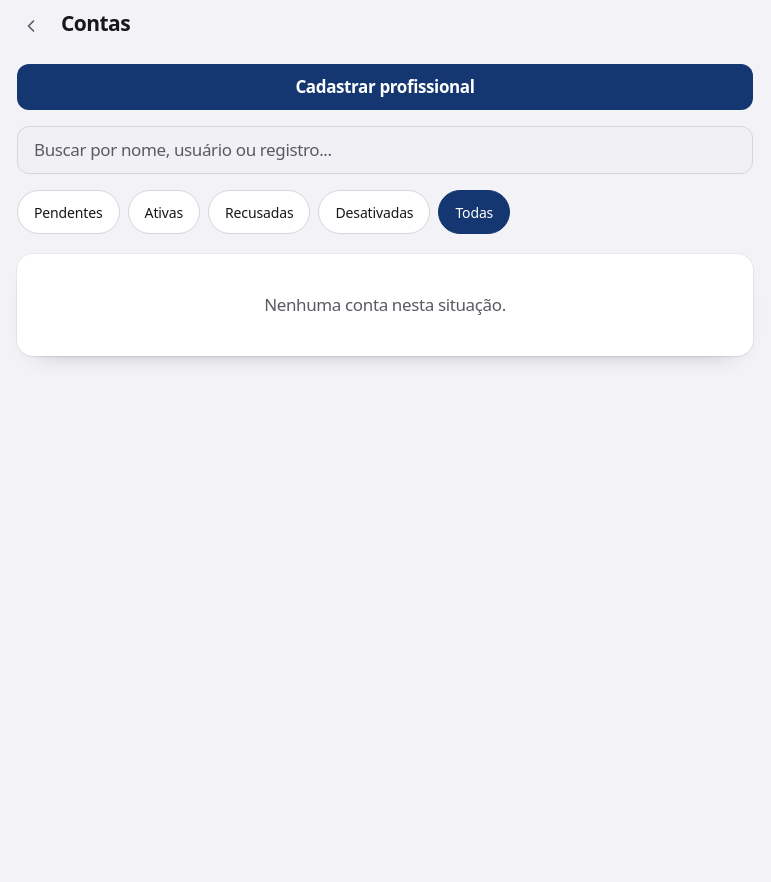
it: Gestão de contas › mantém a senha provisória na tela depois de cadastrar
The image size is (771, 882).
Step 1. Click the button "Cadastrar profissional" → point(385, 87), box [17,64,753,110]
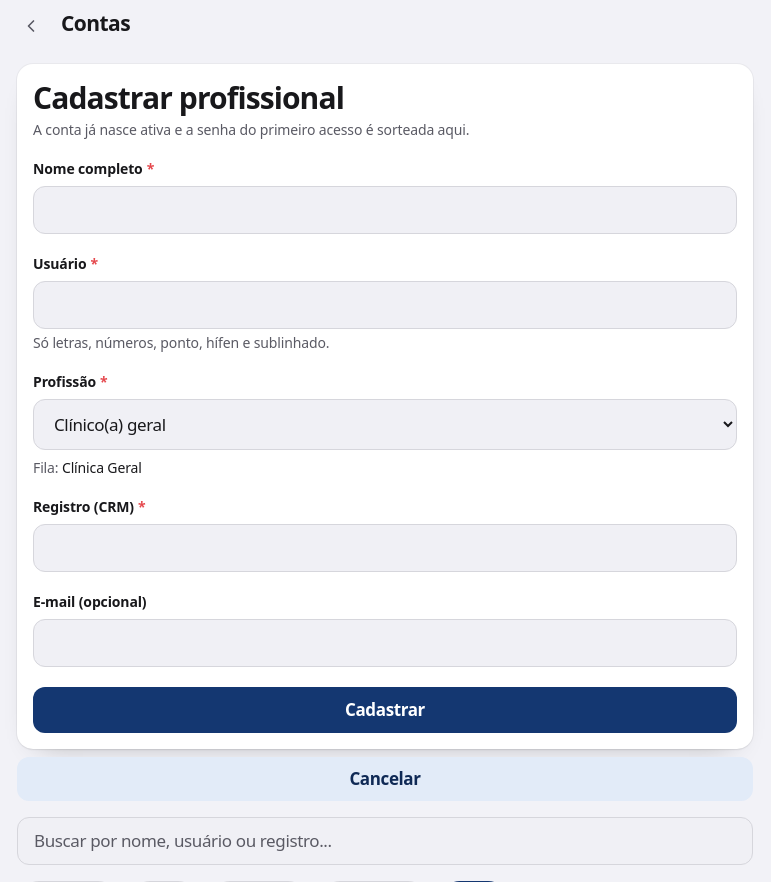
Step 2. Type "Claudia Luz" into the field labelled "Nome completo*" → point(385, 210), box [33,186,737,234]
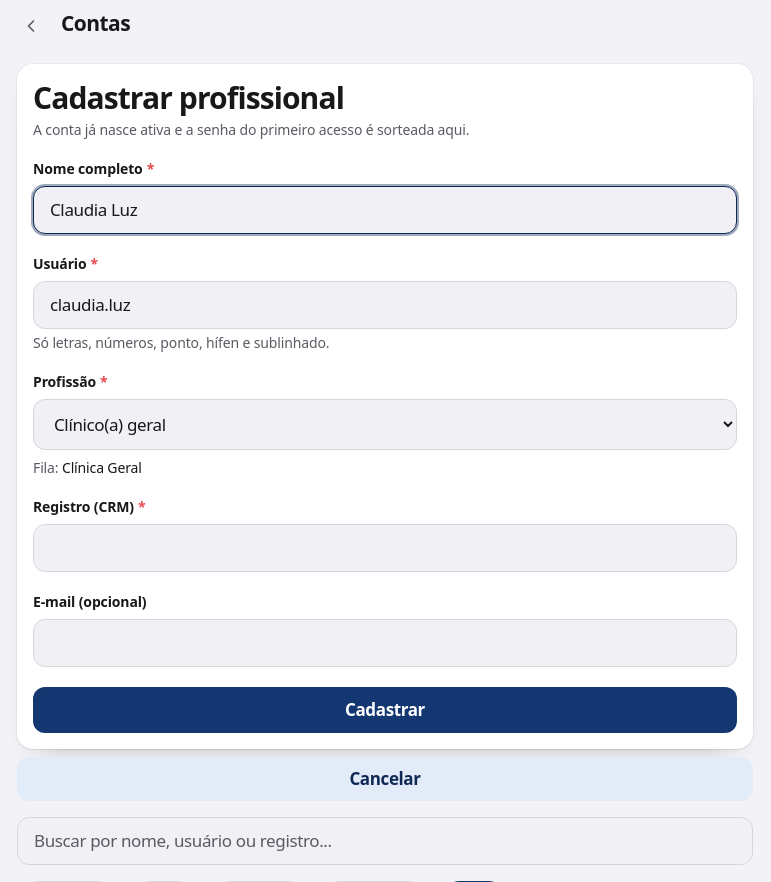
Step 3. Type "52728" into the field labelled "Registro (CRM)*" → point(385, 548), box [33,524,737,572]
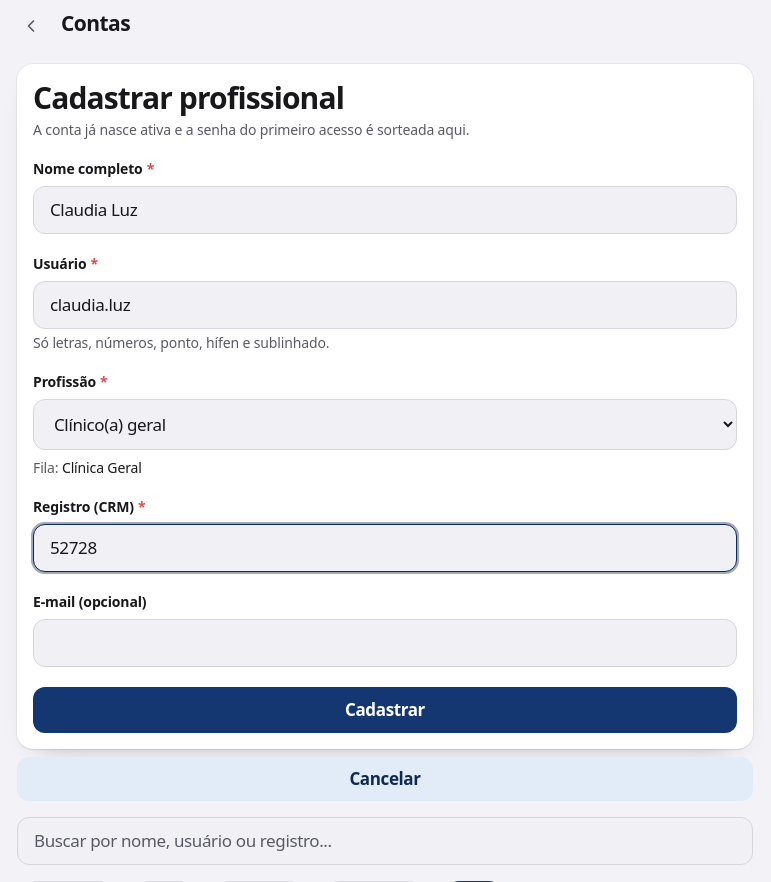
Step 4. Click the button "Cadastrar" → point(385, 710), box [33,687,737,733]
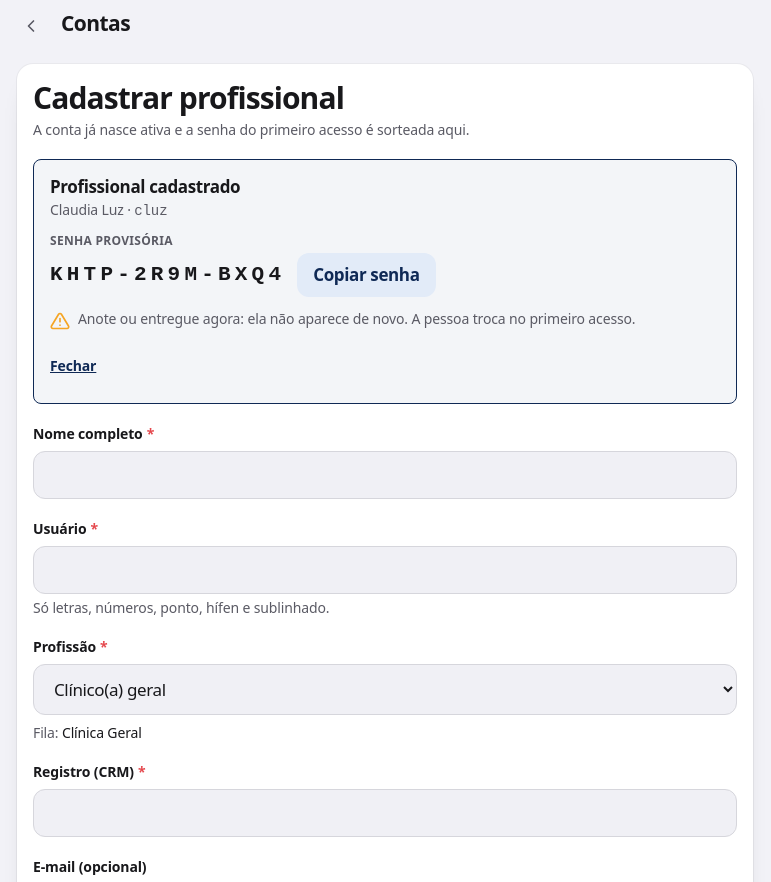
Now the text "KHTP-2R9M-BXQ4" is shown, box [50,262,285,288]
Now the text "não aparece de novo" is shown, box [78,309,636,328]
